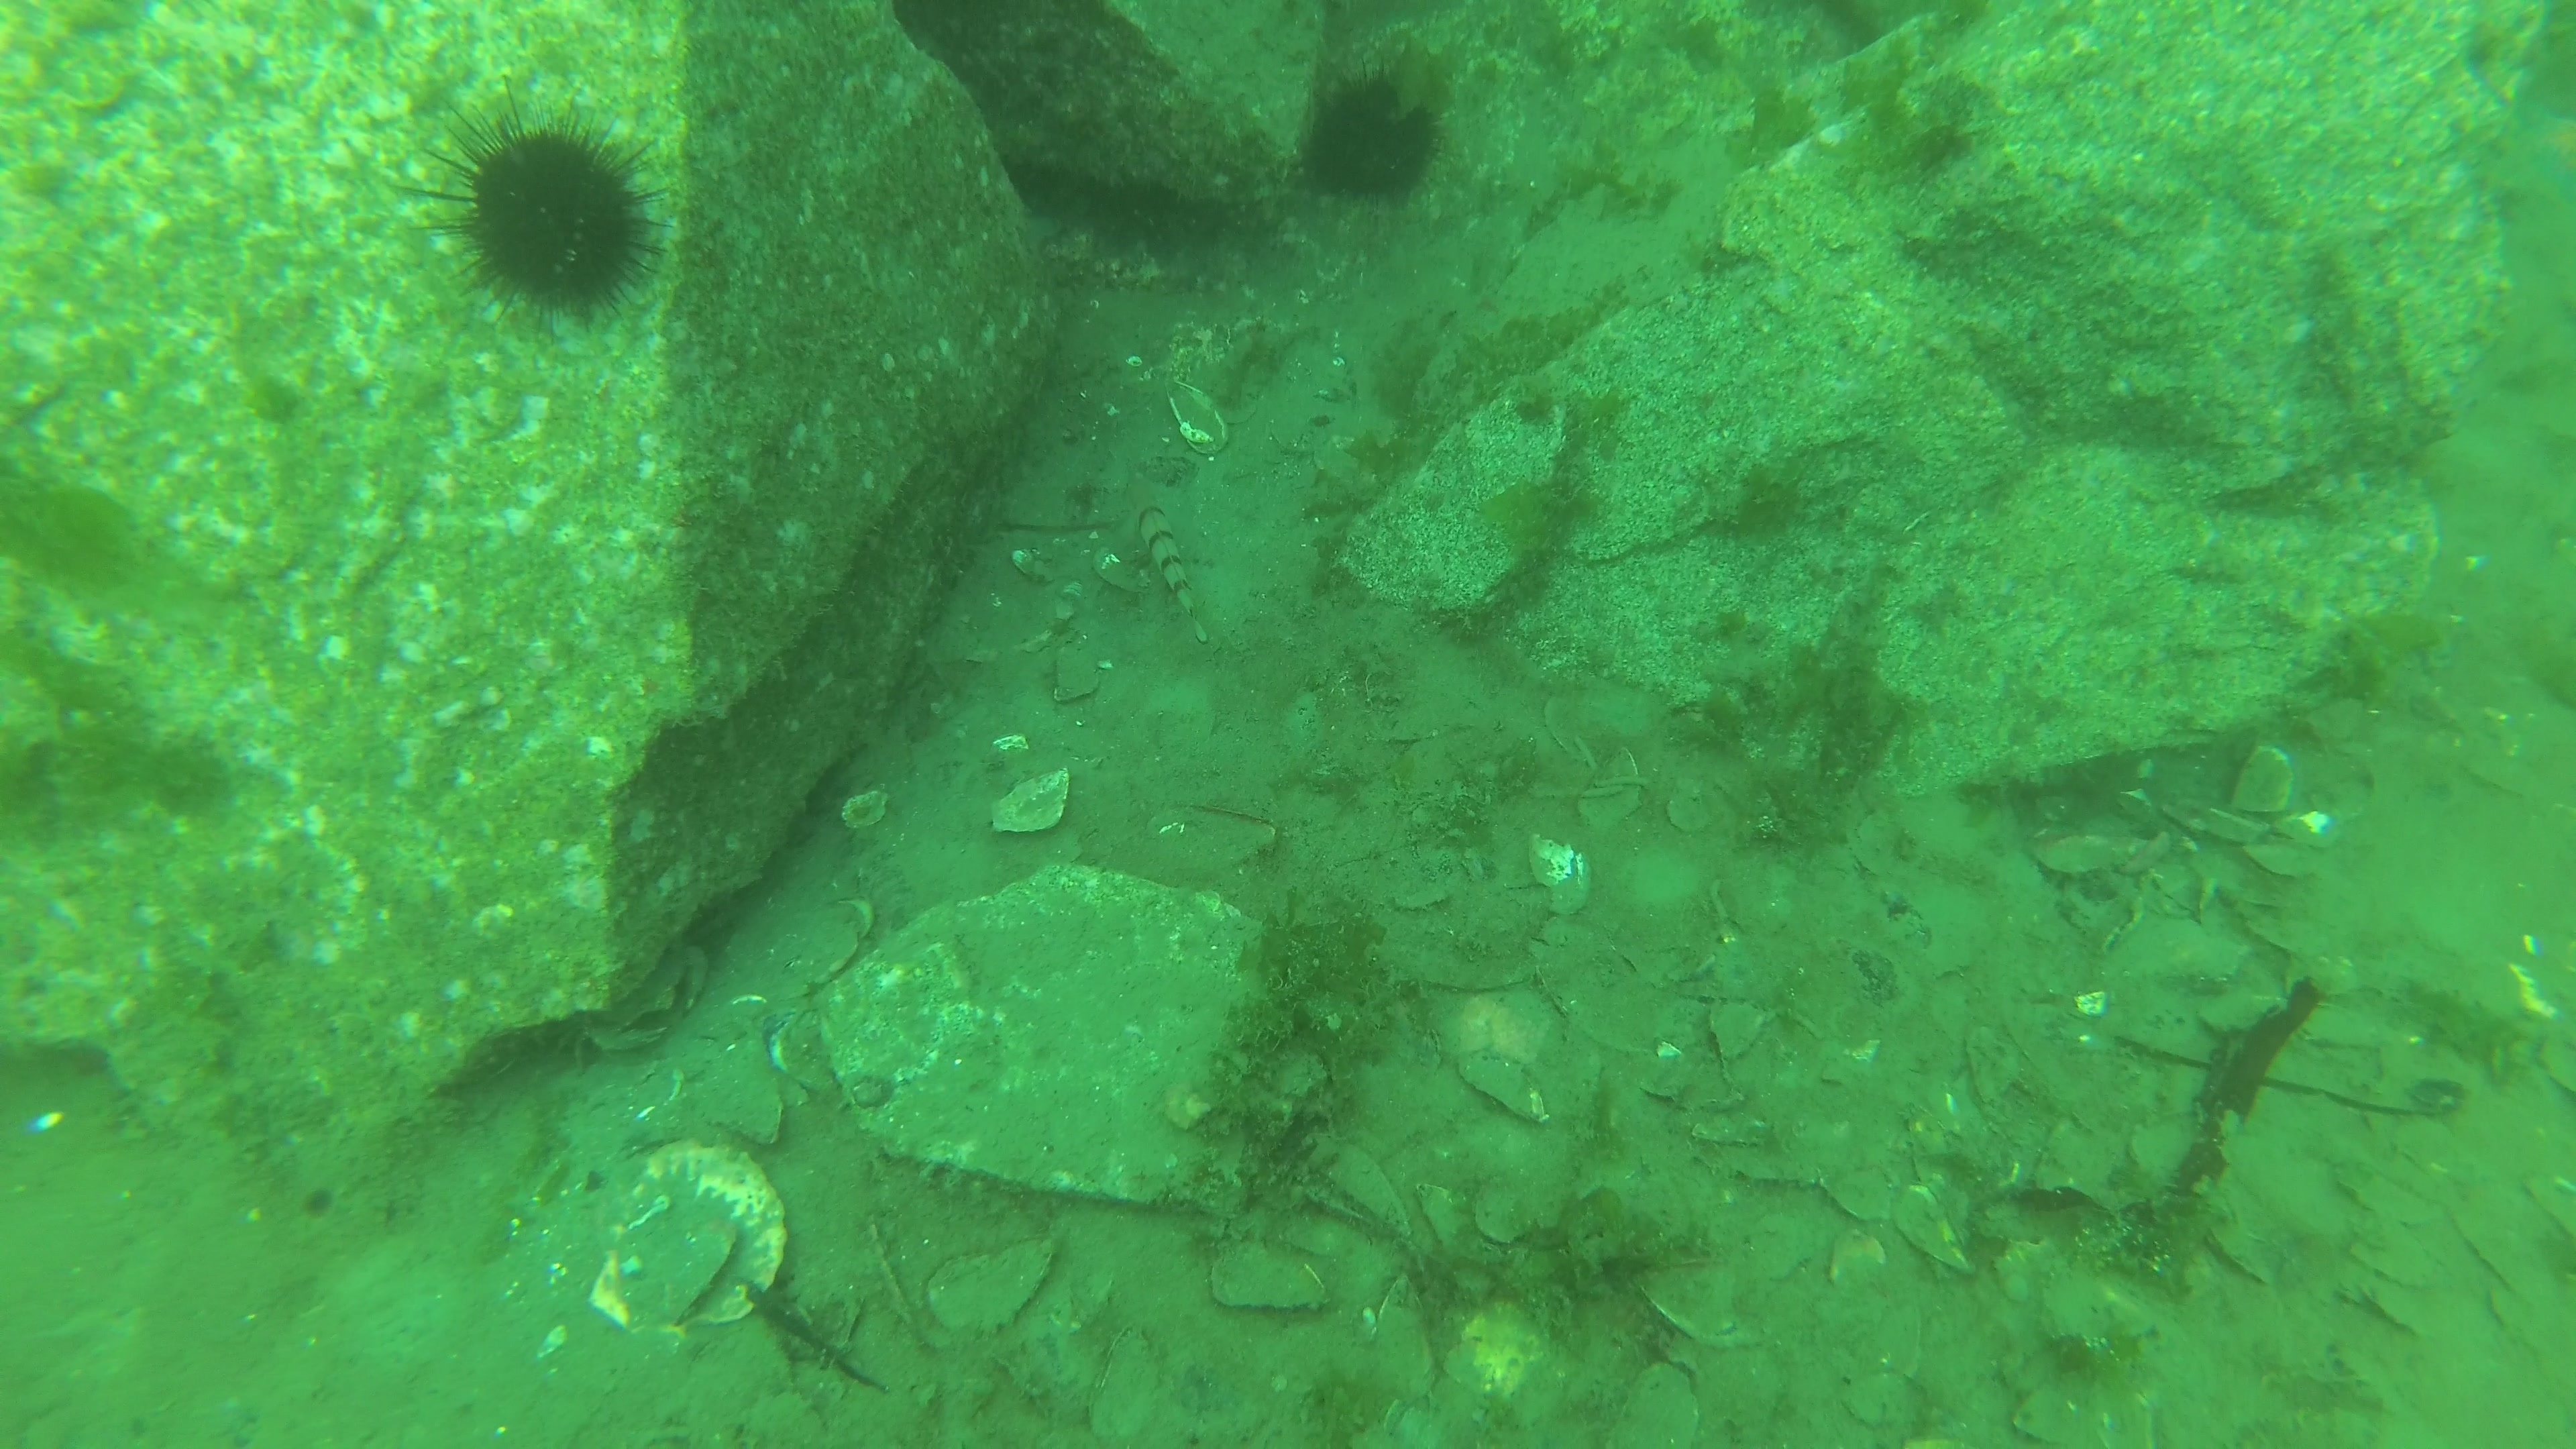echinus: (403, 73, 674, 347), (589, 1143, 791, 1348), (1304, 67, 1454, 216)
